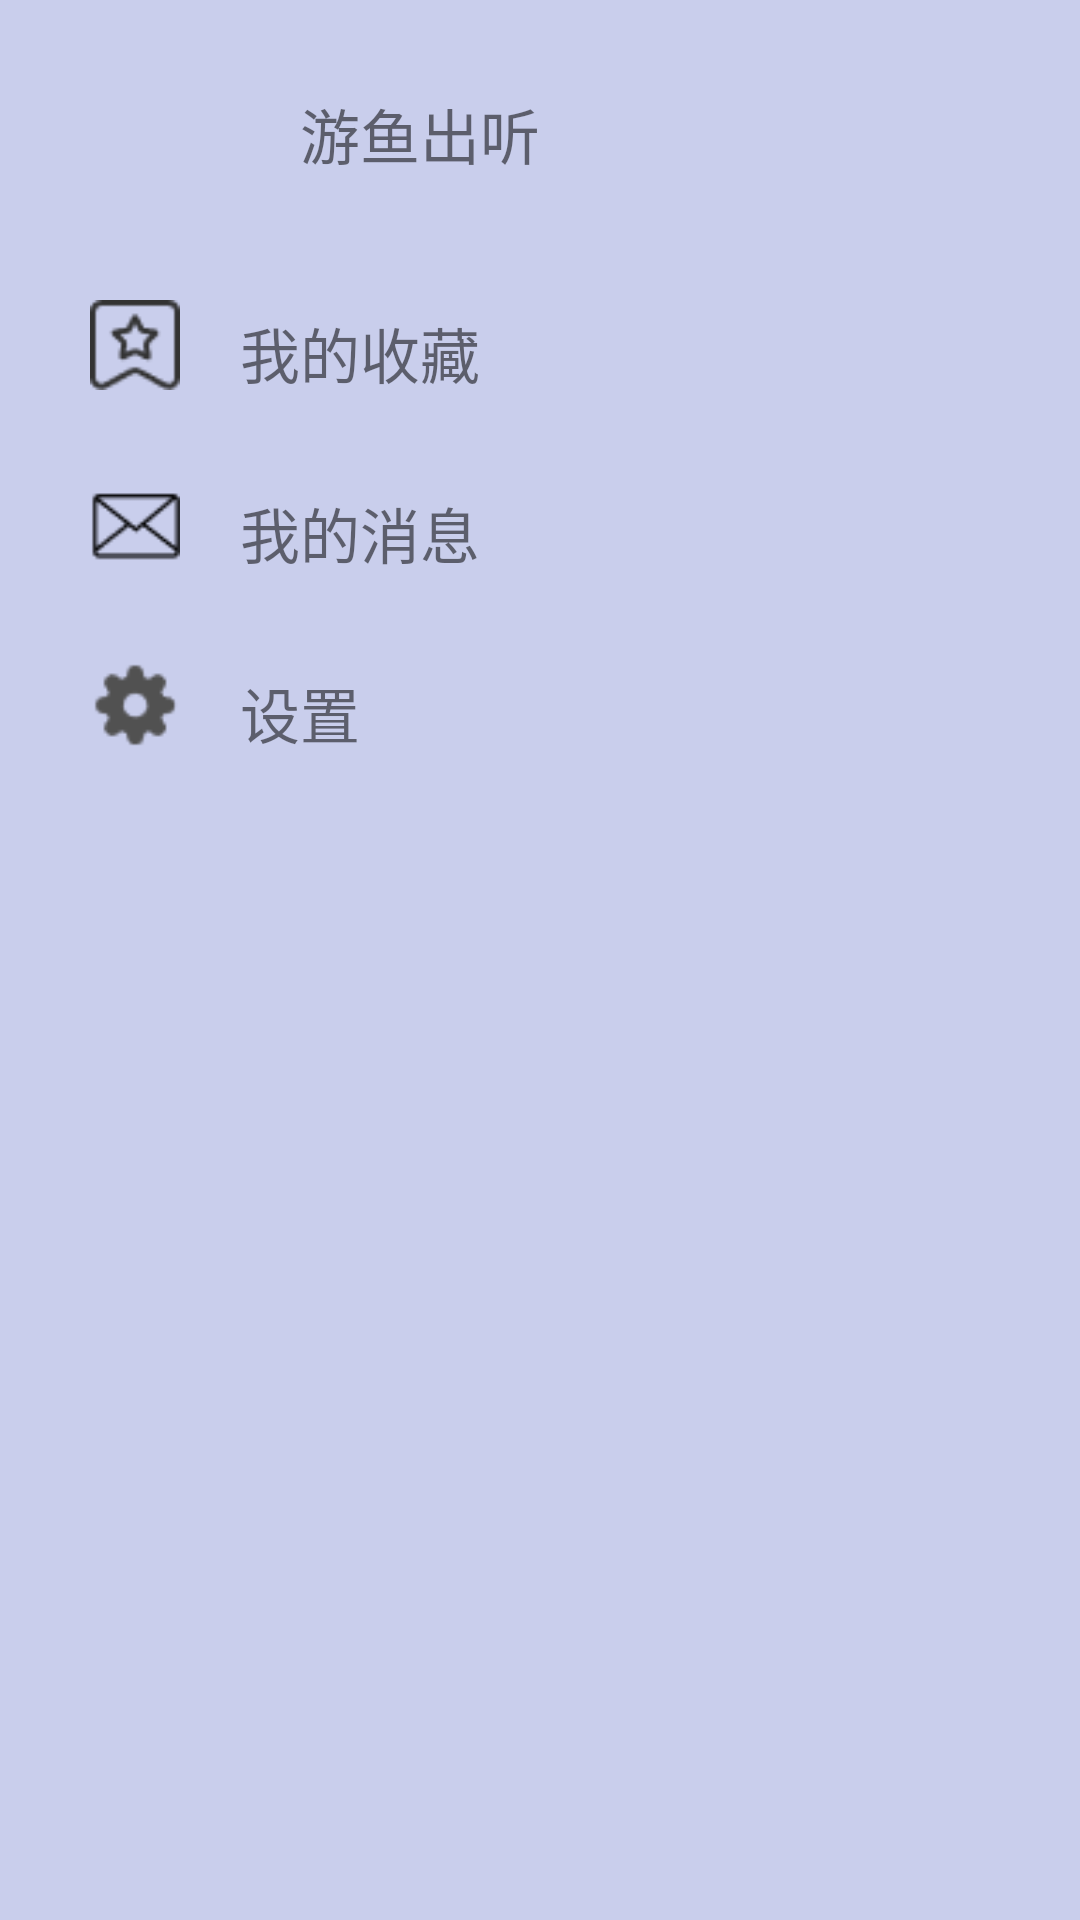

Named icons in this screenshot (1080x1920) and their bounding boxes, (x1, y1, x2, y2):
mylike: (90, 300, 180, 390)
mymessage: (92, 493, 180, 560)
setting: (95, 665, 175, 745)
